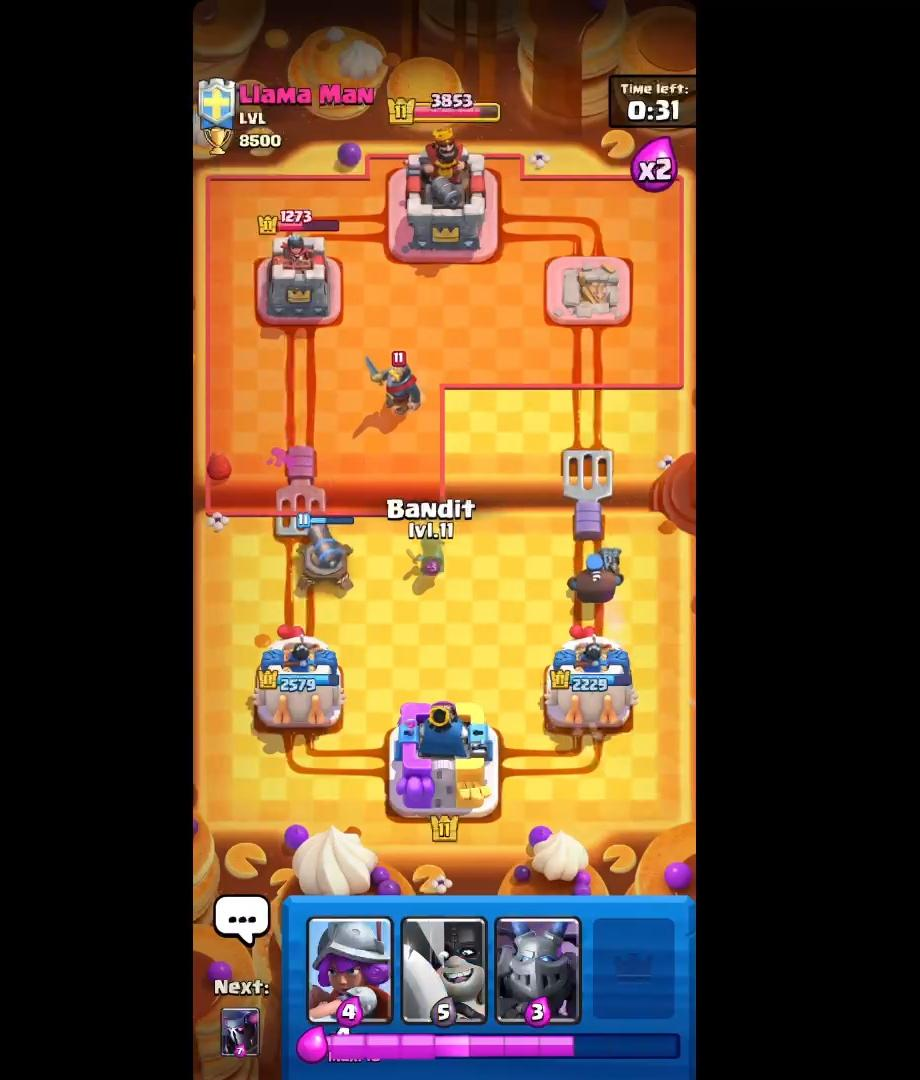Knight: (358, 346, 431, 422)
